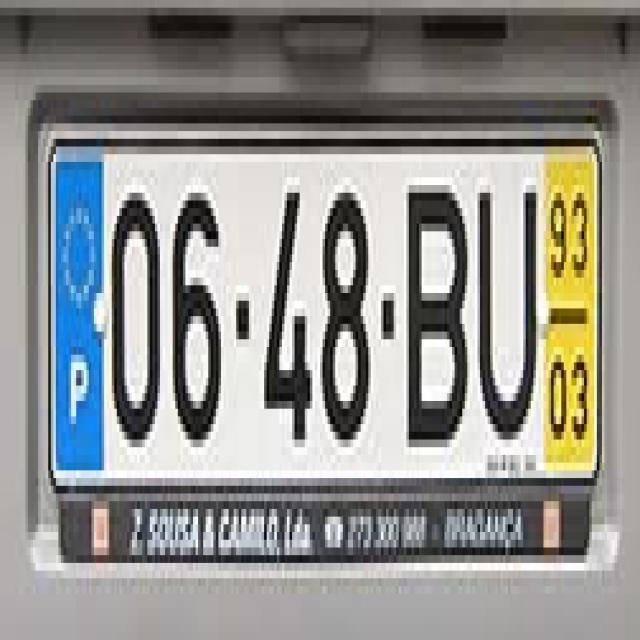EU: (44, 135, 602, 497)
Portugal: (54, 154, 102, 473)
